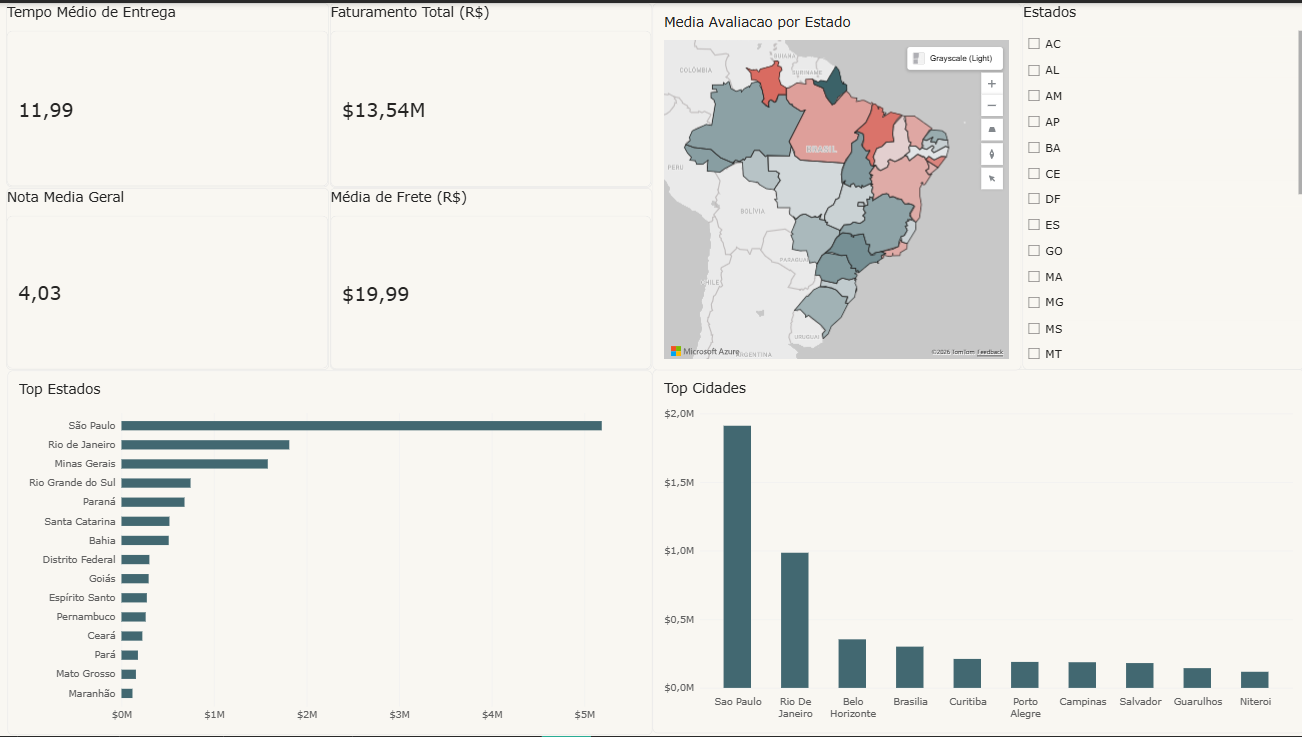

This screenshot's page, from the dashboard's own definition file:
{"tool":"powerbi","page":{"name":"Estados","canvas":[1920,1080],"ordinal":1},"visuals":[{"type":"clusteredBarChart","title":"Top Estados","fields":{"Category":["public dim_customer.Estado_Brasil"],"Y":["public facts_orders.Total Faturamento"]},"box":[10.3,541.9,949.7,536.8],"z":0},{"type":"columnChart","title":"Top Cidades","fields":{"Category":["public dim_customer.customer_city"],"Y":["public facts_orders.Total Faturamento"]},"box":[960,540,960,536],"z":1000},{"type":"cardVisual","title":"Faturamento Total  (R$)","fields":{"Data":["public facts_orders.Total Faturamento"]},"box":[486,0,474,272],"z":2000},{"type":"cardVisual","title":"Média de Frete (R$)","fields":{"Data":["Avg(public facts_orders.freight_value)"]},"box":[486,272,474,268],"z":3000},{"type":"cardVisual","title":"Tempo Médio de Entrega","fields":{"Data":["Avg(public facts_orders.days_to_deliver)"]},"box":[10,0,475.6,271.1],"z":4000},{"type":"cardVisual","title":"Nota Media Geral","fields":{"Data":["public facts_orders.Media Avaliacao"]},"box":[10,272.2,475.6,267.8],"z":5000},{"type":"slicer","title":"Estados","fields":{"Values":["public dim_customer.customer_state"]},"box":[1505,0,415,540],"z":6000},{"type":"azureMap","title":"Media Avaliacao por Estado","fields":{"Category":["public dim_customer.Estado_Brasil"]},"box":[960.9,0,543.2,541],"z":7000}]}

Visuals, with their boxes in screenshot pixels (x1, y1, x2, y2), scaled from the page's 1920x1080 canvas onto the 1302x737 screenshot:
"Top Estados" clusteredBarChart: (7,370,651,736)
"Top Cidades" columnChart: (651,369,1301,734)
"Faturamento Total  (R$)" cardVisual: (330,0,651,186)
"Média de Frete (R$)" cardVisual: (330,186,651,369)
"Tempo Médio de Entrega" cardVisual: (7,0,329,185)
"Nota Media Geral" cardVisual: (7,186,329,369)
"Estados" slicer: (1021,0,1301,369)
"Media Avaliacao por Estado" azureMap: (652,0,1020,369)
